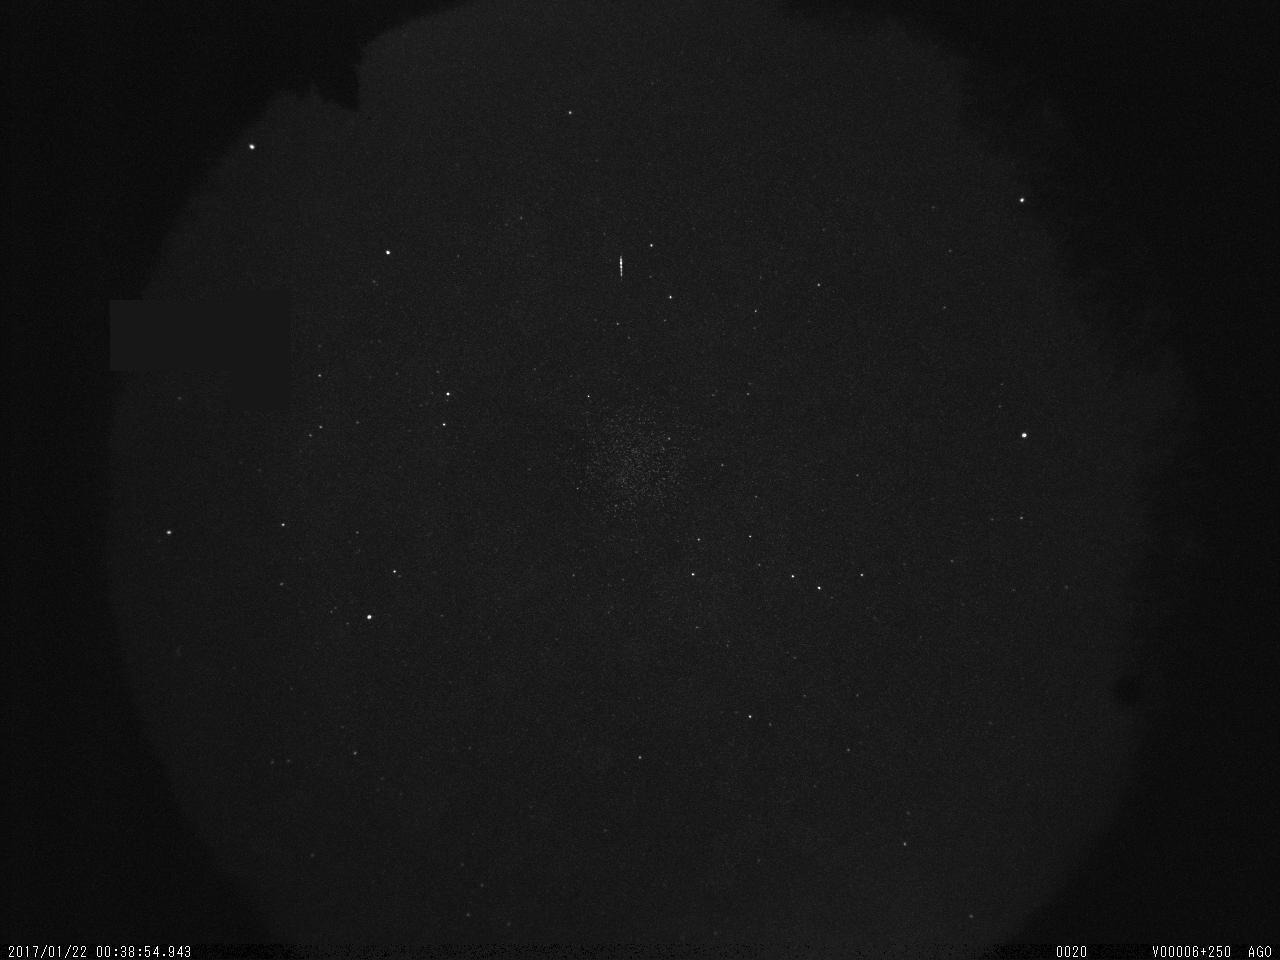Meteor: (612, 250, 632, 279)
